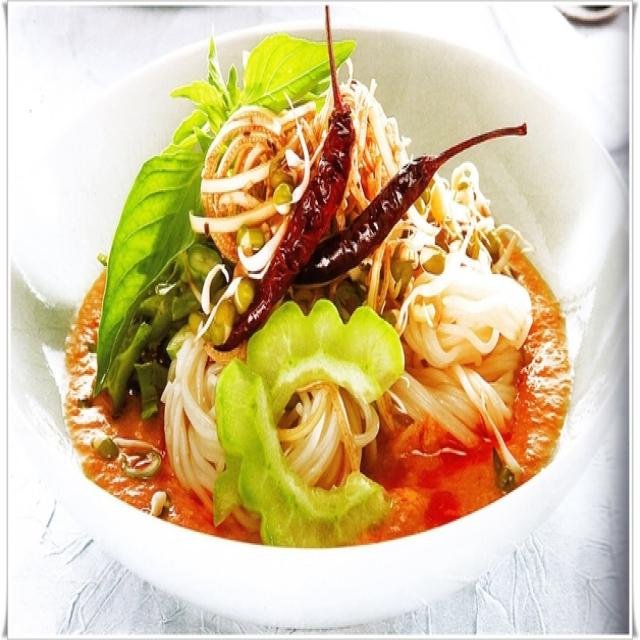面条主食: (34, 26, 605, 592)
